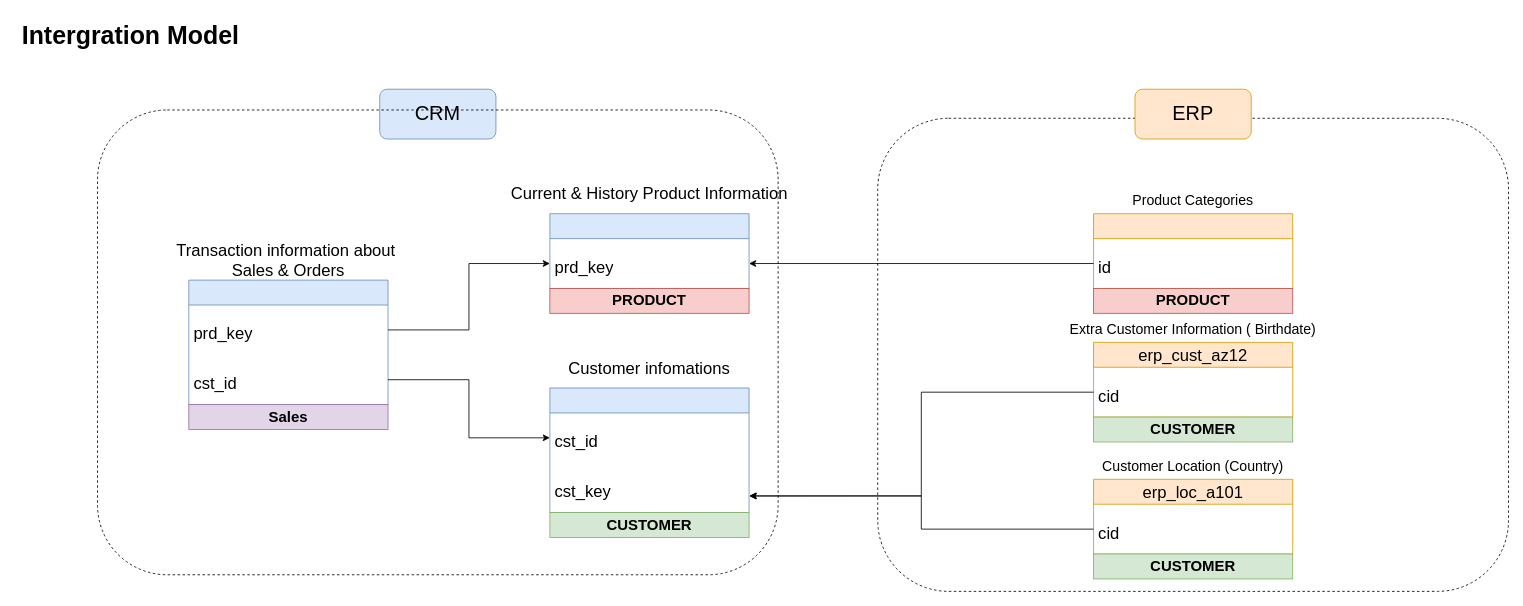
The diagram is 1523 pixels wide and 606 high, and some of its shapes have lost their labels. Here are the shapes that lost their labels. From the top down, the box of each, then its label:
(549, 213, 749, 288): crm_prd_info
(1093, 213, 1293, 288): erp_px_cat_g1v2
(188, 279, 388, 405): crm_sales_details
(549, 387, 749, 513): crm_cust_info
